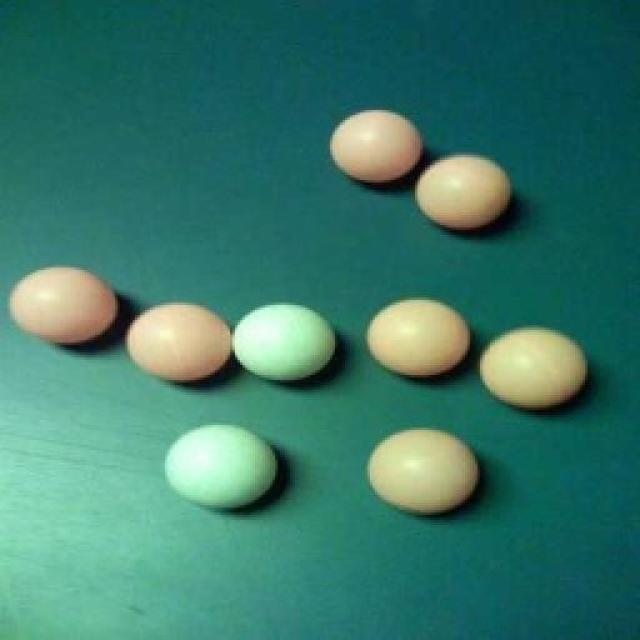oball: (162, 425, 282, 515), (369, 428, 482, 520), (476, 328, 589, 415), (128, 303, 233, 386), (232, 302, 338, 384), (368, 300, 472, 382), (11, 269, 115, 345), (416, 155, 513, 235), (329, 110, 427, 188)
